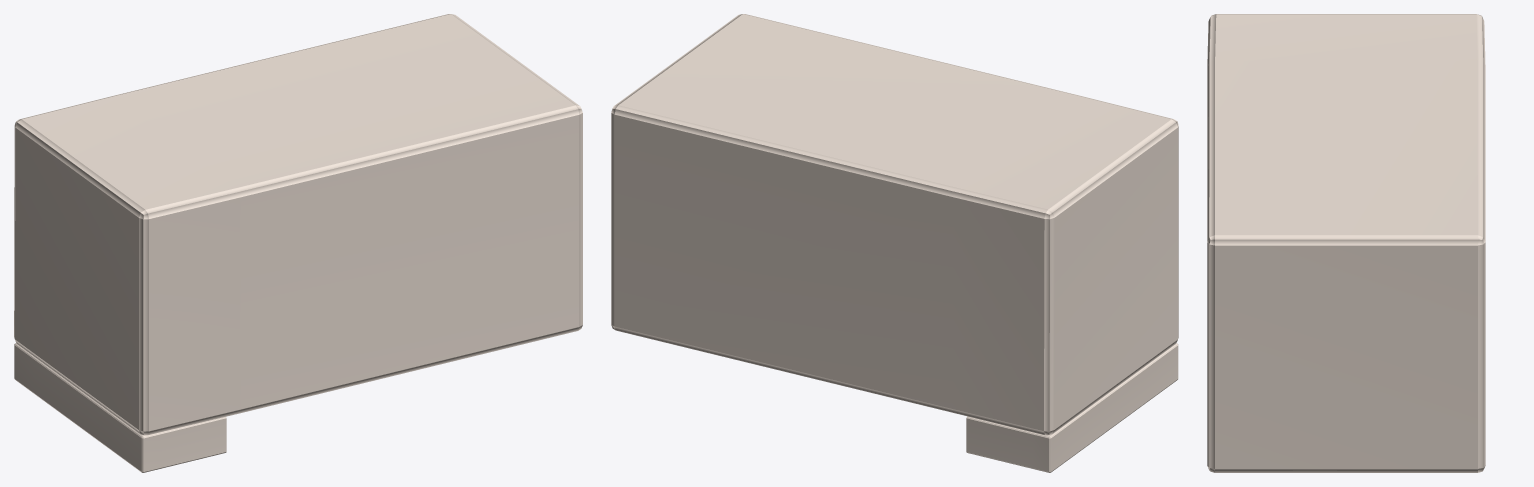
The model's file is BodymeshMicrowaveA10_0_GeomSubset_0.obj.
3 renders of one model, left to right at view 1: azimuth 30°, elevation 25°; view 2: azimuth 150°, elevation 25°; view 3: azimuth 270°, elevation 25°, orthographic. The views are drawn at different scales.
Parts seen in each view (by area): view 1: BodymeshMicrowaveA10_0_GeomSubset_0; view 2: BodymeshMicrowaveA10_0_GeomSubset_0; view 3: BodymeshMicrowaveA10_0_GeomSubset_0.
Part boxes in pixels (box(x1,y1,x2,y2)): BodymeshMicrowaveA10_0_GeomSubset_0: box(14, 14, 582, 472); BodymeshMicrowaveA10_0_GeomSubset_0: box(611, 14, 1178, 472); BodymeshMicrowaveA10_0_GeomSubset_0: box(1207, 14, 1485, 472).
Bounding box in the file's own units: 0.6047 × 0.3411 × 0.3512.
